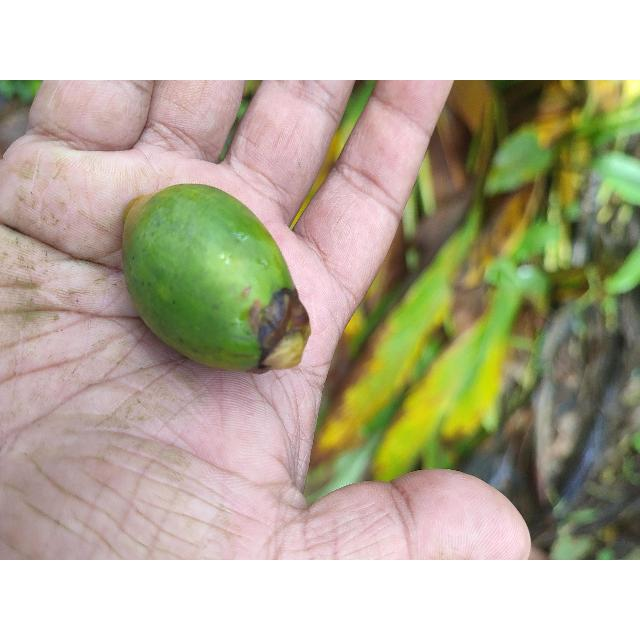good: (122, 184, 311, 372)
